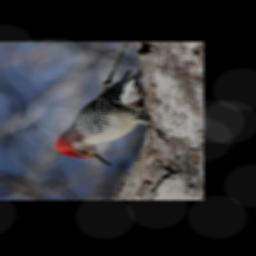Woodpecker: (49, 65, 179, 168)
